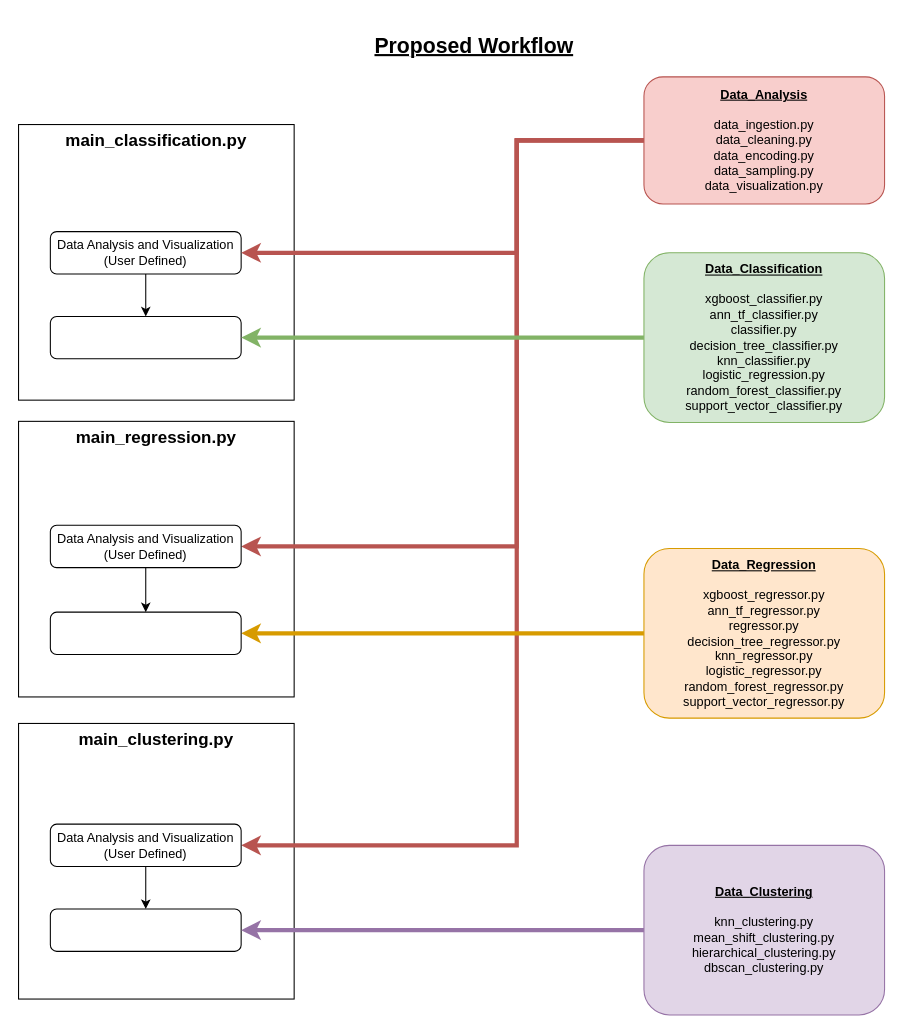
This 903x1034 diagram has some shape labels left out. Each missing label, with the box of its shape:
Classification (User Defined): (49, 315, 241, 359)
Clustering (User Defined): (49, 908, 241, 951)
Regression (User Defined): (49, 611, 241, 655)
